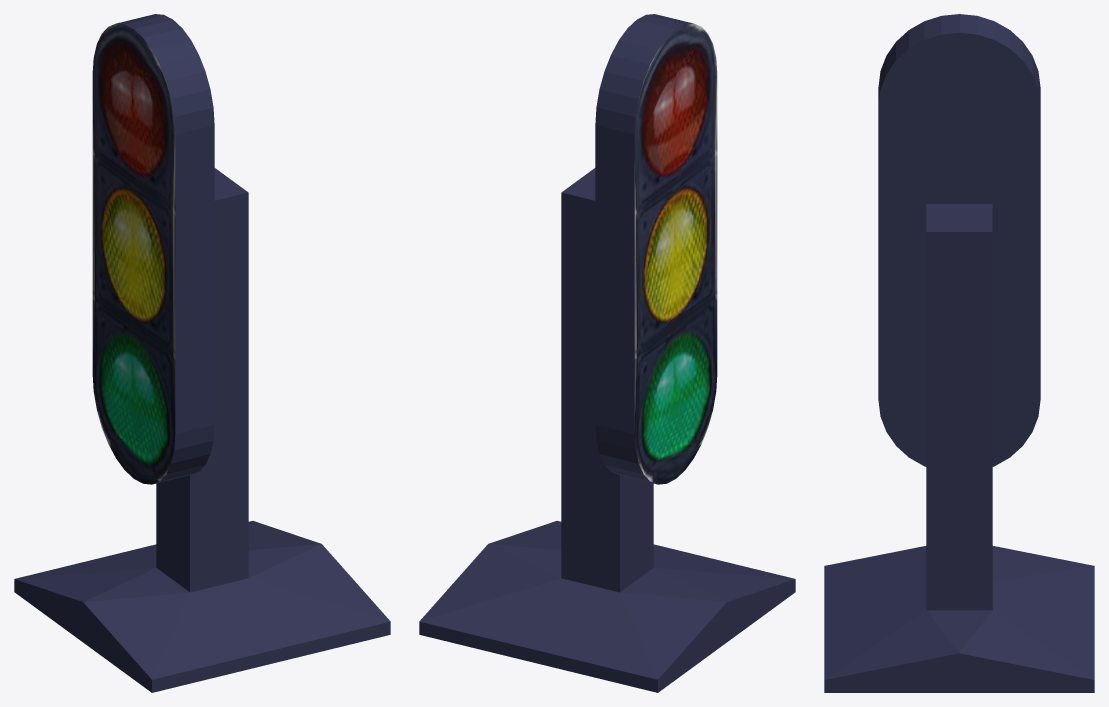
File: SignTrafficLight.dae
3 renders of one model, left to right at view 1: azimuth 30°, elevation 25°; view 2: azimuth 150°, elevation 25°; view 3: azimuth 270°, elevation 25°, orthographic.
Parts seen in each view (by area): view 1: SignTrafficLight.001; view 2: SignTrafficLight.001; view 3: SignTrafficLight.001.
Part boxes in pixels (bbox=[...]): SignTrafficLight.001: bbox=[14, 14, 390, 692]; SignTrafficLight.001: bbox=[419, 14, 795, 692]; SignTrafficLight.001: bbox=[824, 14, 1094, 692].
Size of the model in its own units: 0.1 by 0.1 by 0.2405.
